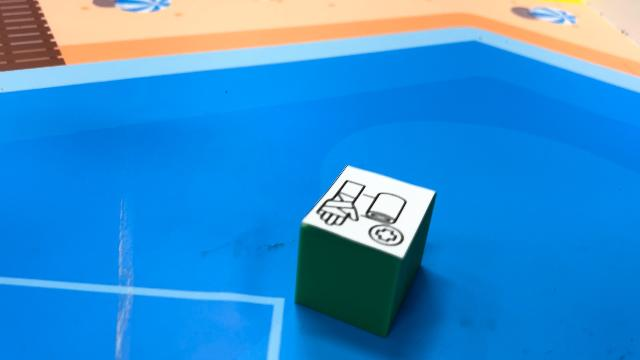bandage: (294, 165, 436, 338)
